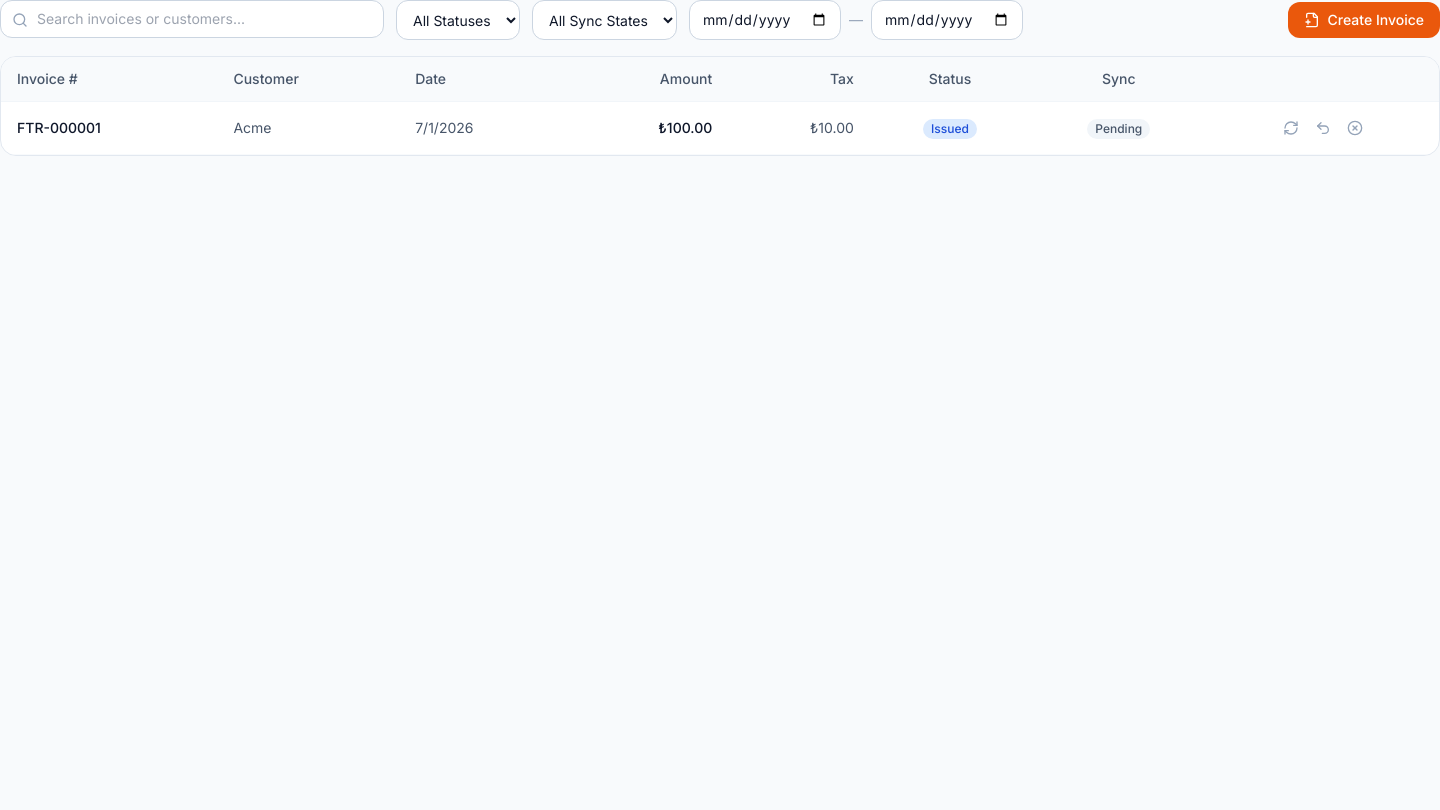
InvoicesPanel — create invoice from order (D1) › opens the modal, selects a paid order and creates the invoice
This screenshot has width=1440, height=810.
Click the button "Create Invoice" at (1364, 20), box [1288,2,1439,38]
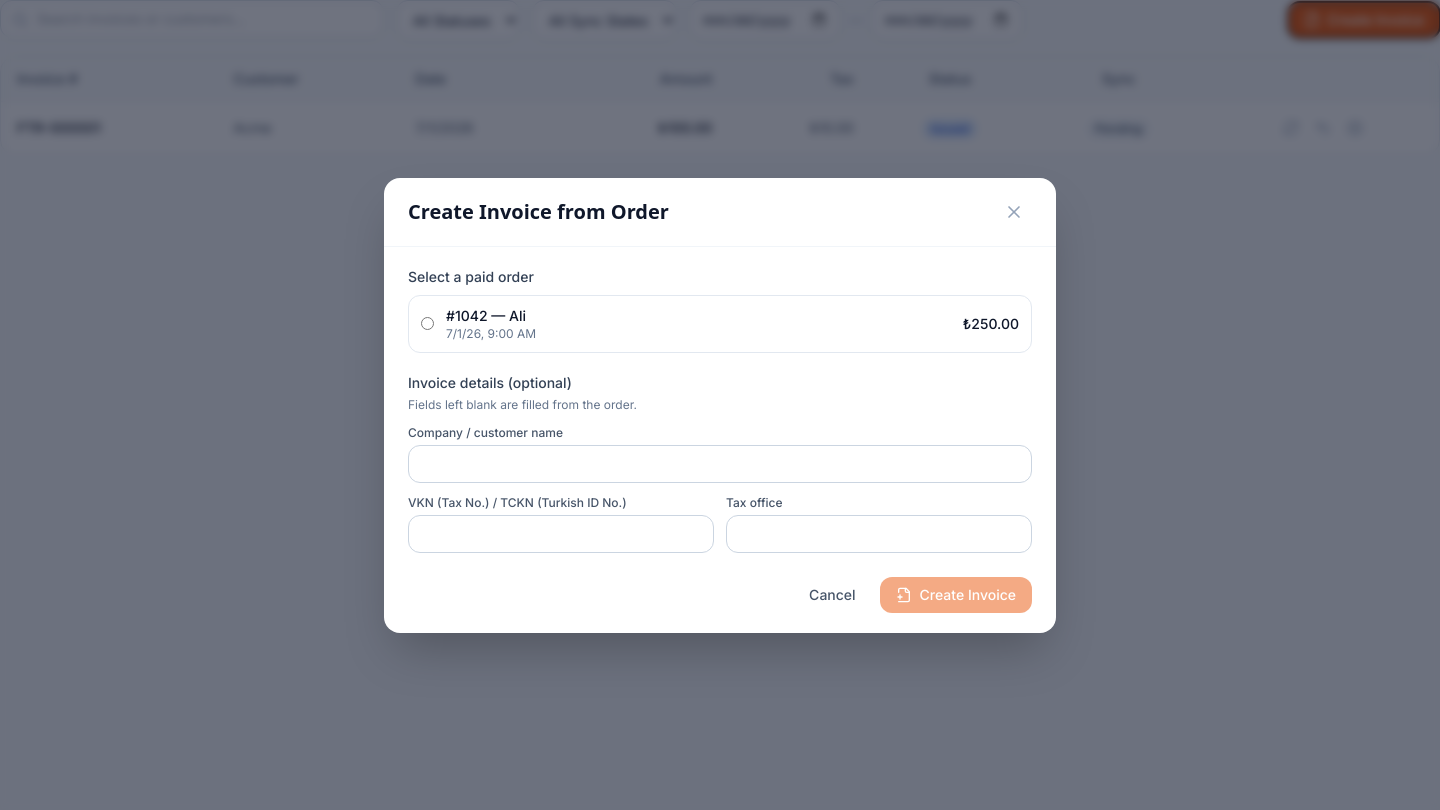
Expected: the text "#1042 — Ali" is shown, [446,306,526,324]
Click the radio button at (428, 324), box [421,317,434,330]
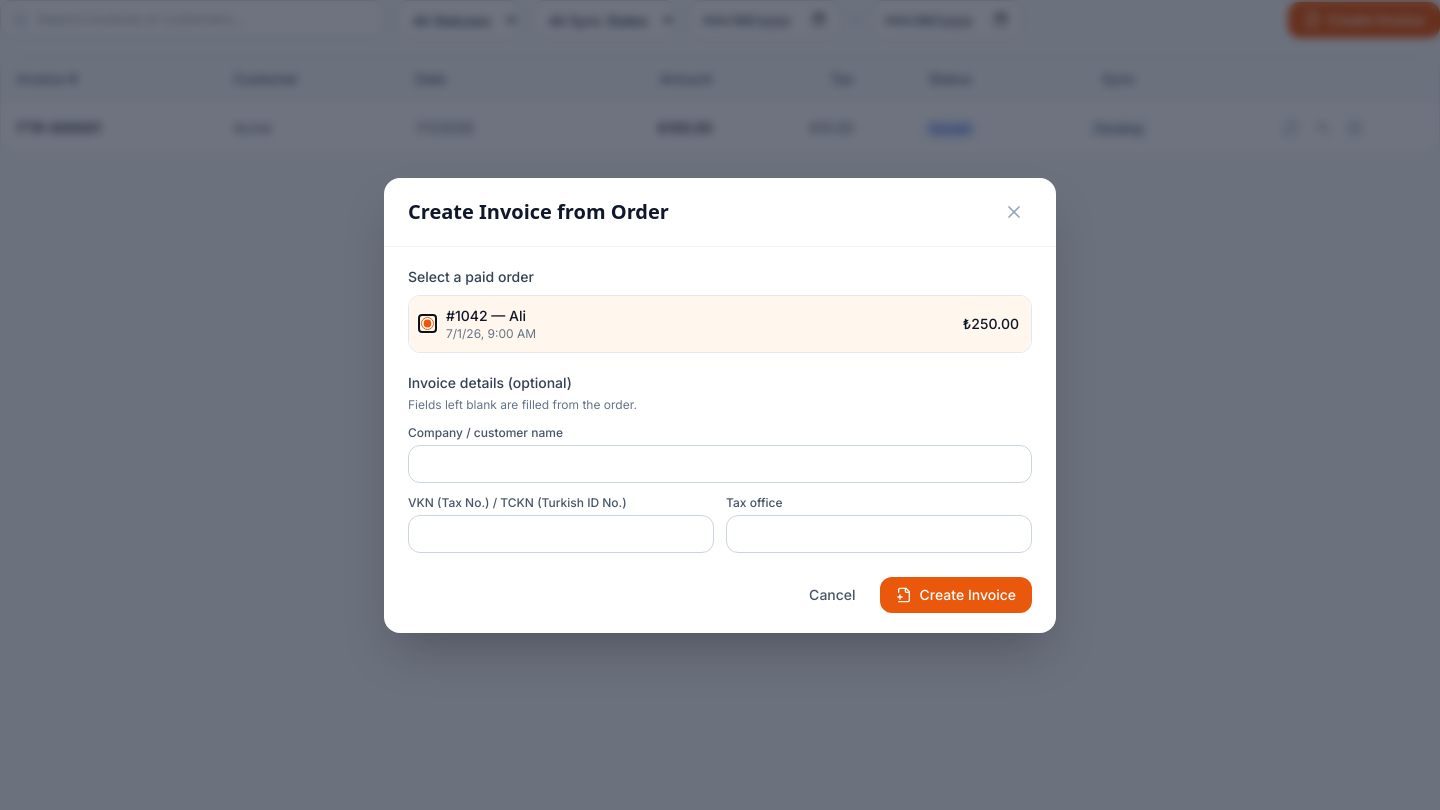
Click the button "Create Invoice" at (956, 594), box [880,576,1032,612]
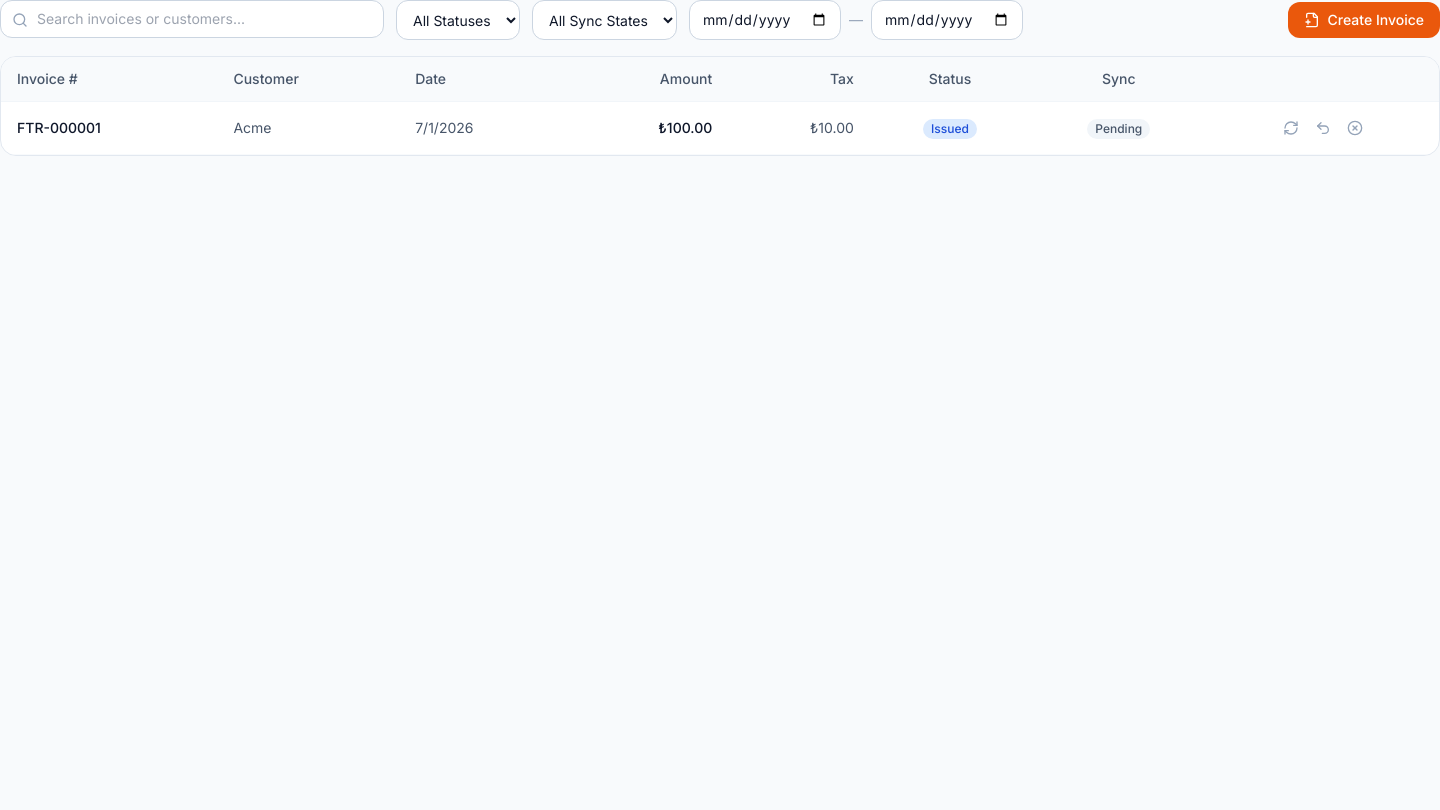
Expected: the heading "Create Invoice from Order" is gone
